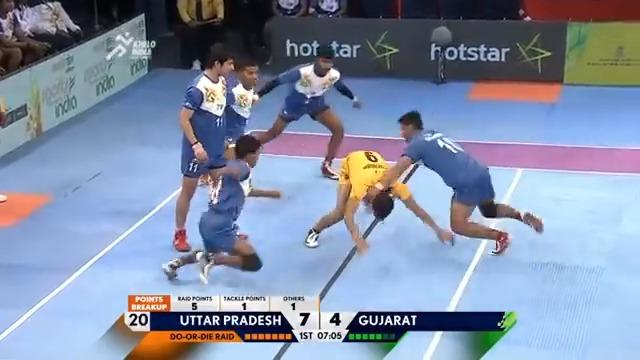Player: (362, 109, 544, 255), (161, 134, 281, 284), (246, 43, 362, 180), (170, 44, 238, 252), (223, 54, 261, 144)
Raider: (303, 148, 455, 256)
